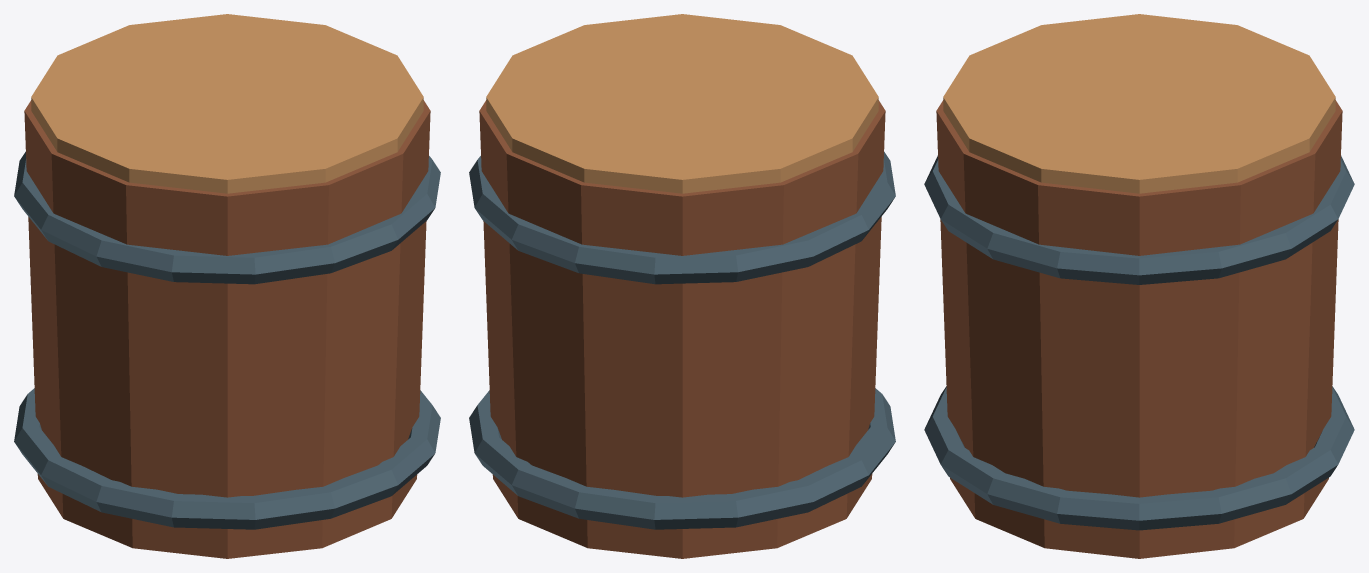
The model's file is market_18_Wood_Barrel.glb.
The picture shows the model from 3 angles, left to right: view 1: azimuth 30°, elevation 25°; view 2: azimuth 150°, elevation 25°; view 3: azimuth 270°, elevation 25°; orthographic projection.
Visible parts, largest first — view 1: 18_Wood_Barrel; view 2: 18_Wood_Barrel; view 3: 18_Wood_Barrel.
Part boxes in pixels (x1,y1,x2,y2): 18_Wood_Barrel: (14, 14, 440, 558); 18_Wood_Barrel: (469, 14, 895, 558); 18_Wood_Barrel: (924, 14, 1354, 558).
Size of the model in its own units: 0.636 by 0.6225 by 0.636.
